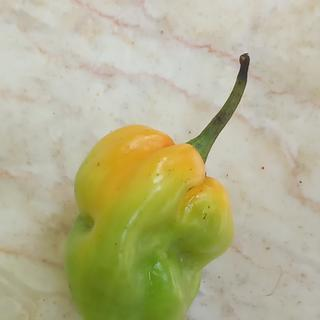Grade-A: (61, 117, 239, 318)
